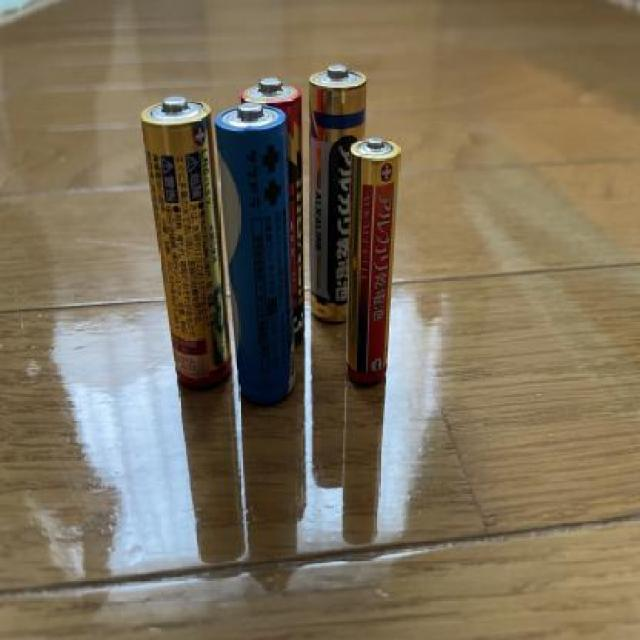hazardous waste: (204, 97, 300, 411), (138, 94, 234, 392), (236, 69, 310, 349), (306, 60, 368, 331), (345, 134, 403, 392)
